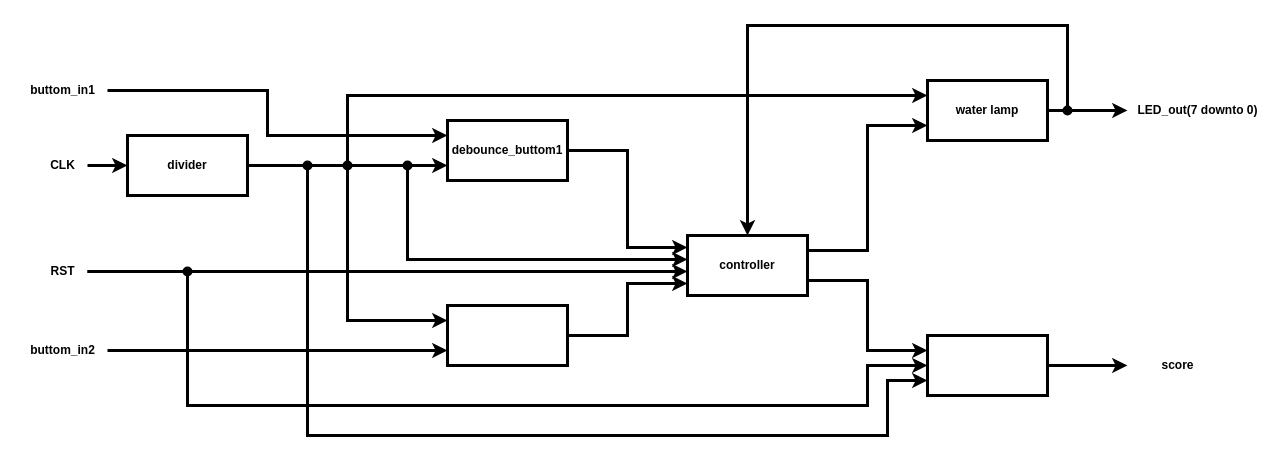
This 1284x462 diagram has some shape labels left out. The shapes that lost their labels are listed below. From the top down, each one's box as (x1, y1, x2, y2) in pixels, then its label:
(446, 304, 568, 366): debounce_buttom2
(926, 334, 1048, 396): seven_segment
